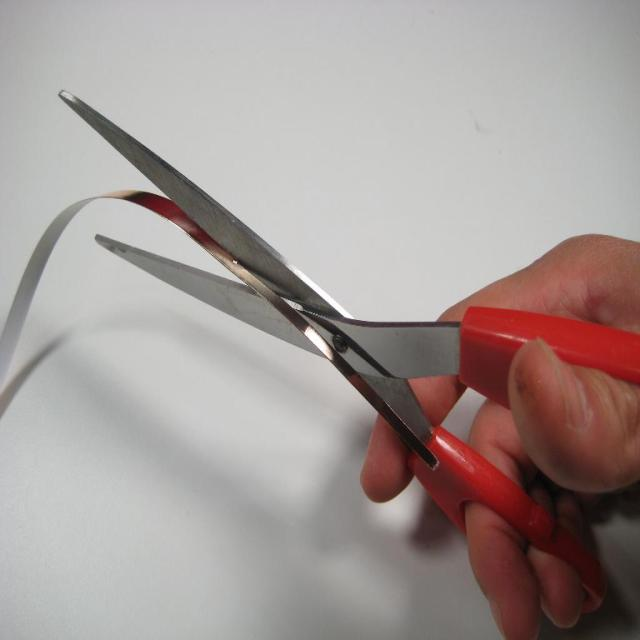scissors: (52, 88, 634, 610)
